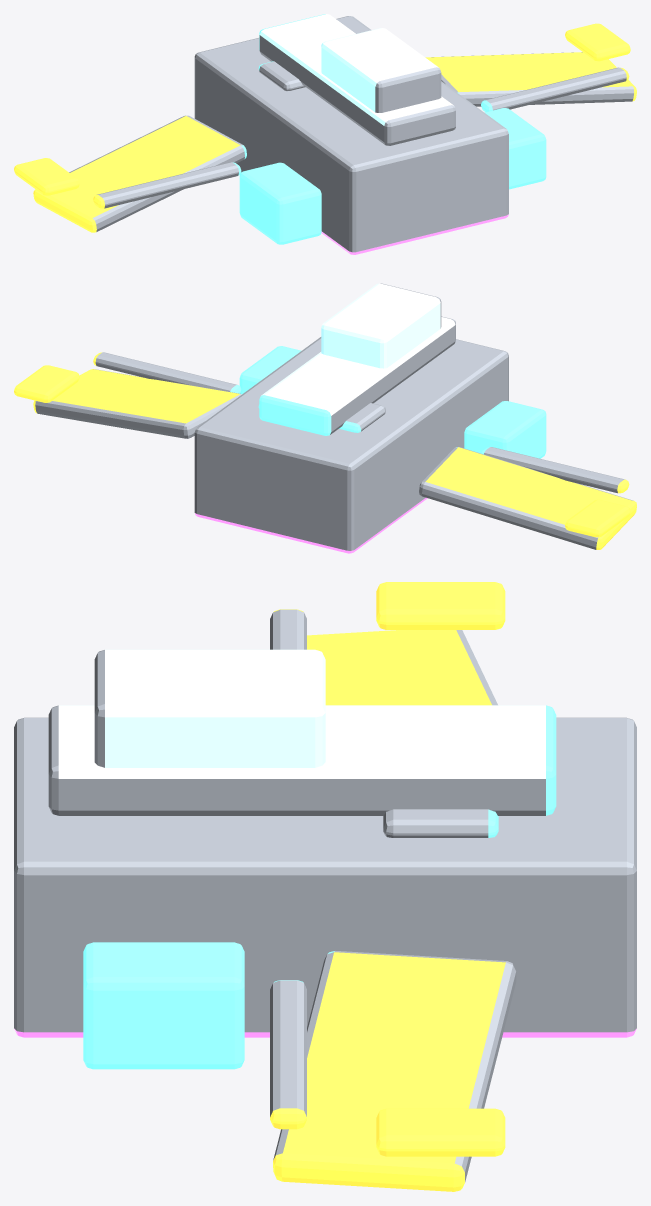
File: Ship_Body.fbx
3 renders of one model, top to bottom at view 1: azimuth 30°, elevation 25°; view 2: azimuth 150°, elevation 25°; view 3: azimuth 270°, elevation 25°, orthographic. The views are drawn at different scales.
Parts seen in each view (by area): view 1: Ship_Body; view 2: Ship_Body; view 3: Ship_Body.
Part boxes in pixels (x1=…): Ship_Body: x1=14, y1=14, x2=636, y2=254; Ship_Body: x1=14, y1=283, x2=636, y2=553; Ship_Body: x1=14, y1=582, x2=636, y2=1191.
Bounding box in the file's own units: 2.88 × 0.745 × 1.35.
